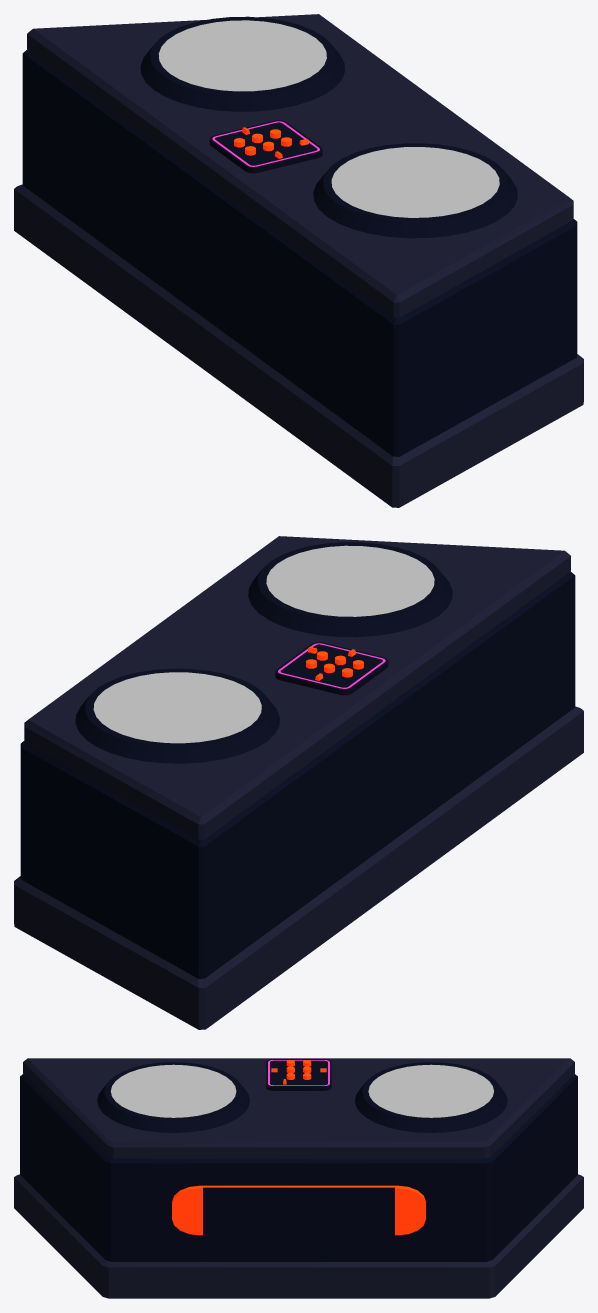
The model's file is DJbox_l 1.fbx.
The picture shows the model from 3 angles, top to bottom: view 1: azimuth 30°, elevation 25°; view 2: azimuth 150°, elevation 25°; view 3: azimuth 270°, elevation 25°; orthographic projection. The views are drawn at different scales.
Parts seen in each view (by area): view 1: dj_l; view 2: dj_l; view 3: dj_l.
Boxes of the visible parts, x1,y1,x2,y2 form: dj_l: (14,14,583,507); dj_l: (14,536,583,1029); dj_l: (14,1058,583,1298).
Bounding box in the file's own units: 82.59 × 214 × 66.95.
